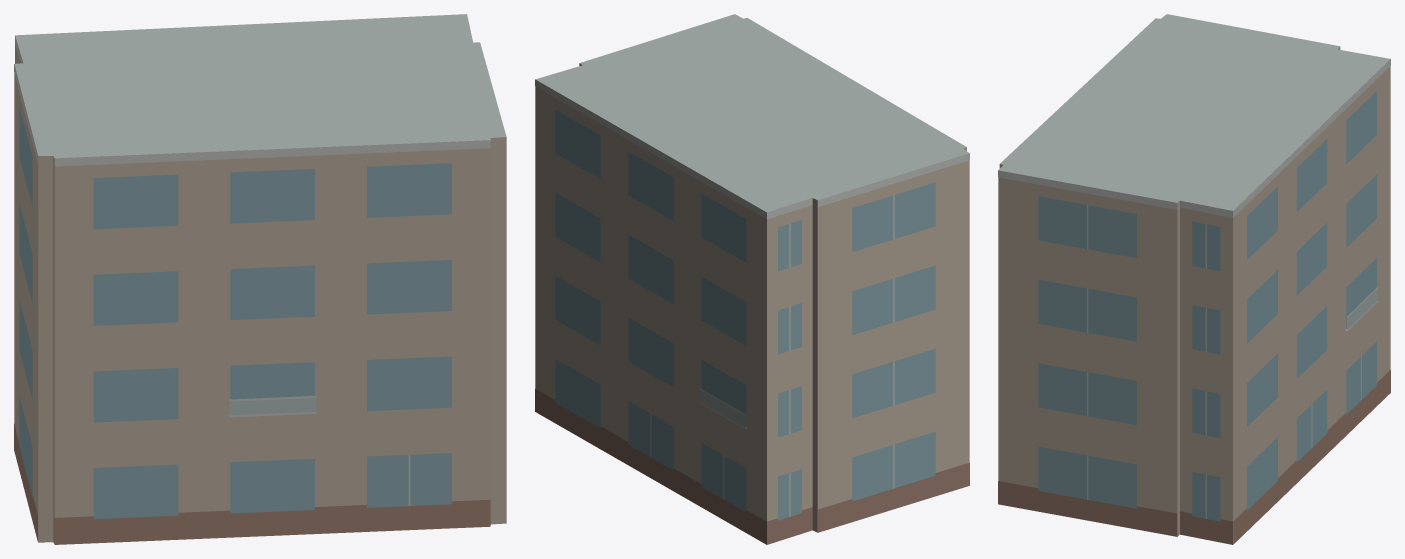
Rendered from survey-upis-32524131.glb.
3 renders of one model, left to right at view 1: azimuth 30°, elevation 25°; view 2: azimuth 150°, elevation 25°; view 3: azimuth 270°, elevation 25°, orthographic. The views are drawn at different scales.
Parts seen in each view (by area): view 1: survey-upis-32524131.tmp; view 2: survey-upis-32524131.tmp; view 3: survey-upis-32524131.tmp.
Part boxes in pixels (x1=…): survey-upis-32524131.tmp: x1=14, y1=14, x2=506, y2=544; survey-upis-32524131.tmp: x1=535, y1=14, x2=969, y2=544; survey-upis-32524131.tmp: x1=998, y1=14, x2=1390, y2=544.
Size of the model in its own units: 14.74 by 11.65 by 12.42.
